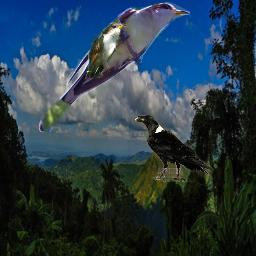Crow: (134, 115, 214, 182)
Cuckoo: (39, 2, 190, 132), (86, 22, 127, 78)
